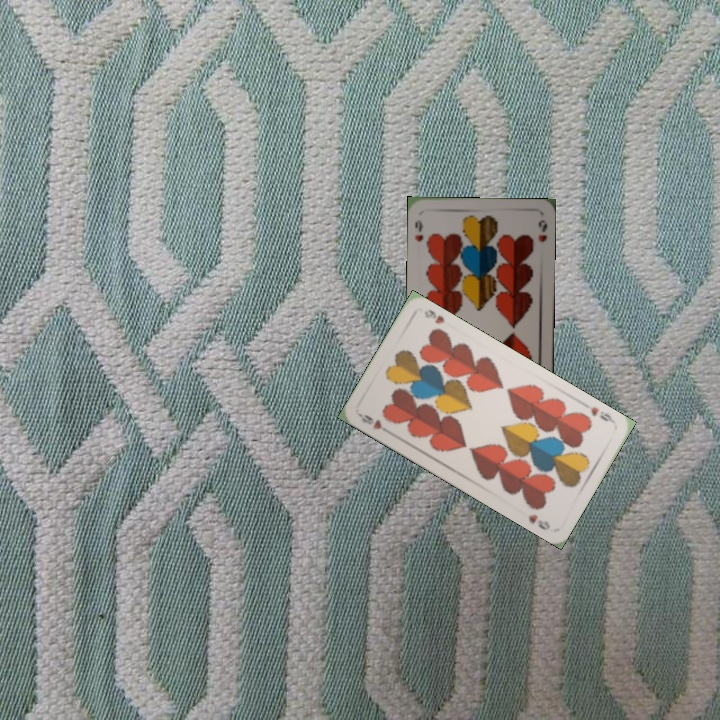H9: (581, 399, 618, 426), (355, 410, 393, 436), (411, 216, 426, 244)
